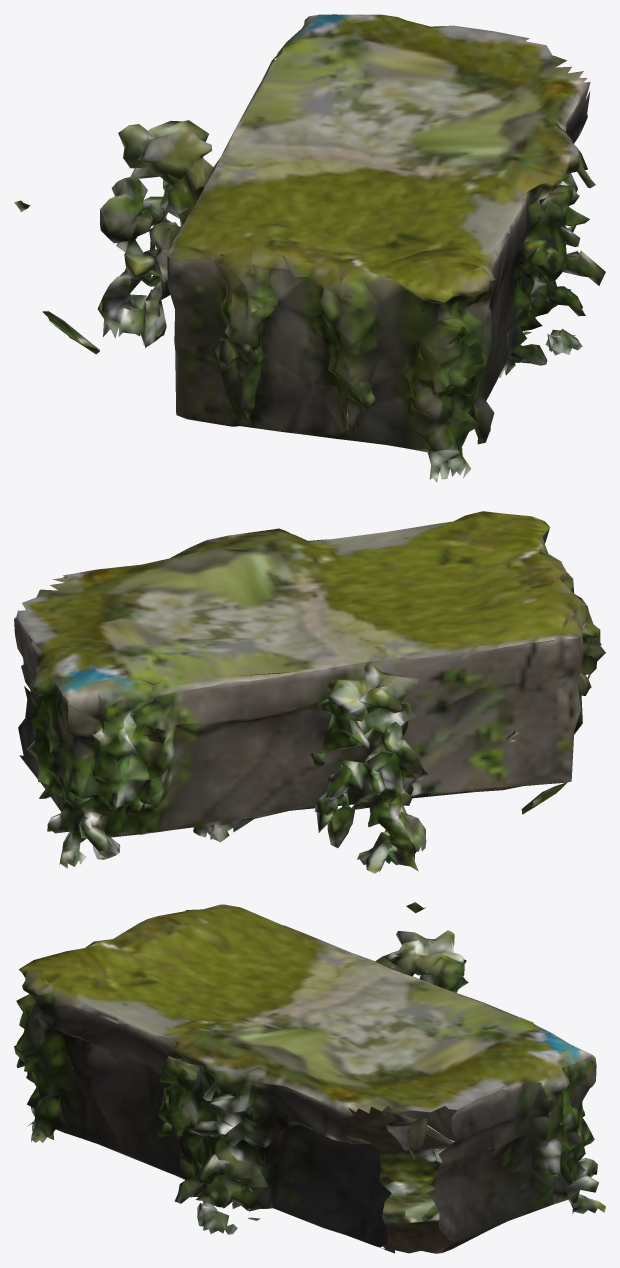
The model's file is F3D_08_StonePlatform.fbx.
3 renders of one model, top to bottom at view 1: azimuth 30°, elevation 25°; view 2: azimuth 150°, elevation 25°; view 3: azimuth 270°, elevation 25°, orthographic. The views are drawn at different scales.
Visible parts, largest first — view 1: F3D_08_StonePlatform; view 2: F3D_08_StonePlatform; view 3: F3D_08_StonePlatform.
Boxes of the visible parts, box(x1,y1,x2,y2) form: F3D_08_StonePlatform: box(14, 14, 605, 481); F3D_08_StonePlatform: box(14, 511, 605, 873); F3D_08_StonePlatform: box(14, 902, 605, 1253).
Size of the model in its own units: 2.78 by 1 by 3.03.
